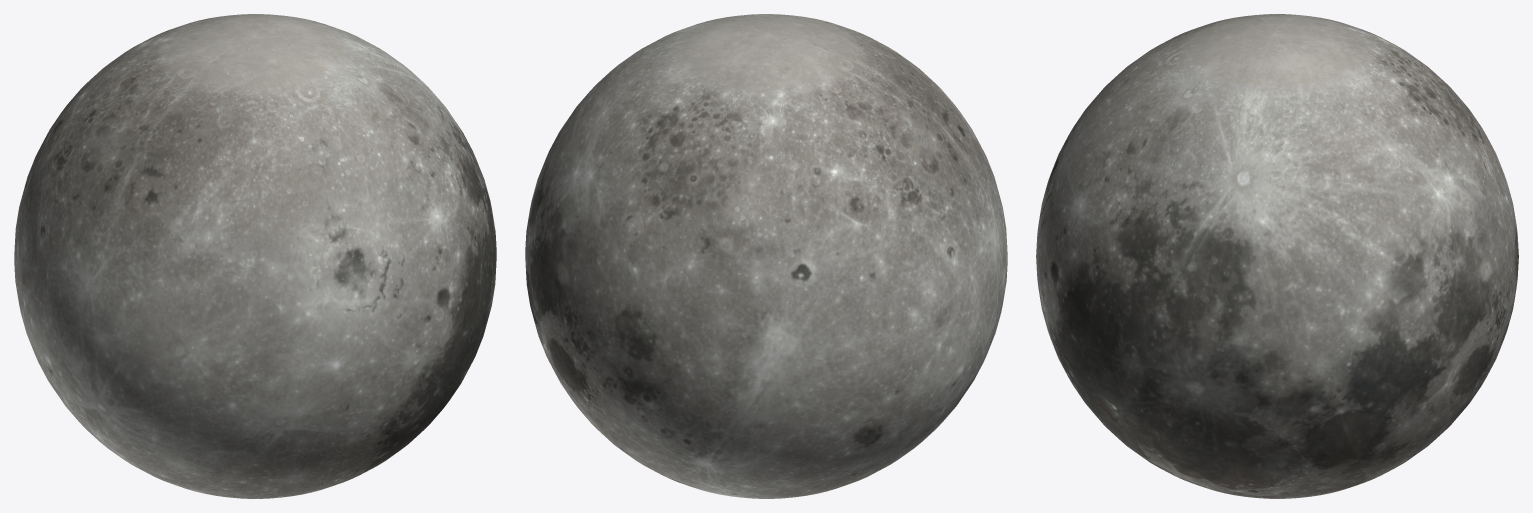
File: moon.glb
The picture shows the model from 3 angles, left to right: view 1: azimuth 30°, elevation 25°; view 2: azimuth 150°, elevation 25°; view 3: azimuth 270°, elevation 25°; orthographic projection.
Parts seen in each view (by area): view 1: Sphere; view 2: Sphere; view 3: Sphere.
Boxes of the visible parts, <box> form: Sphere: <box>14,14,496,498</box>; Sphere: <box>525,14,1007,498</box>; Sphere: <box>1036,14,1518,498</box>.
Size of the model in its own units: 1.97 by 2 by 1.97.
Materials: 1 (1 with a texture image).
